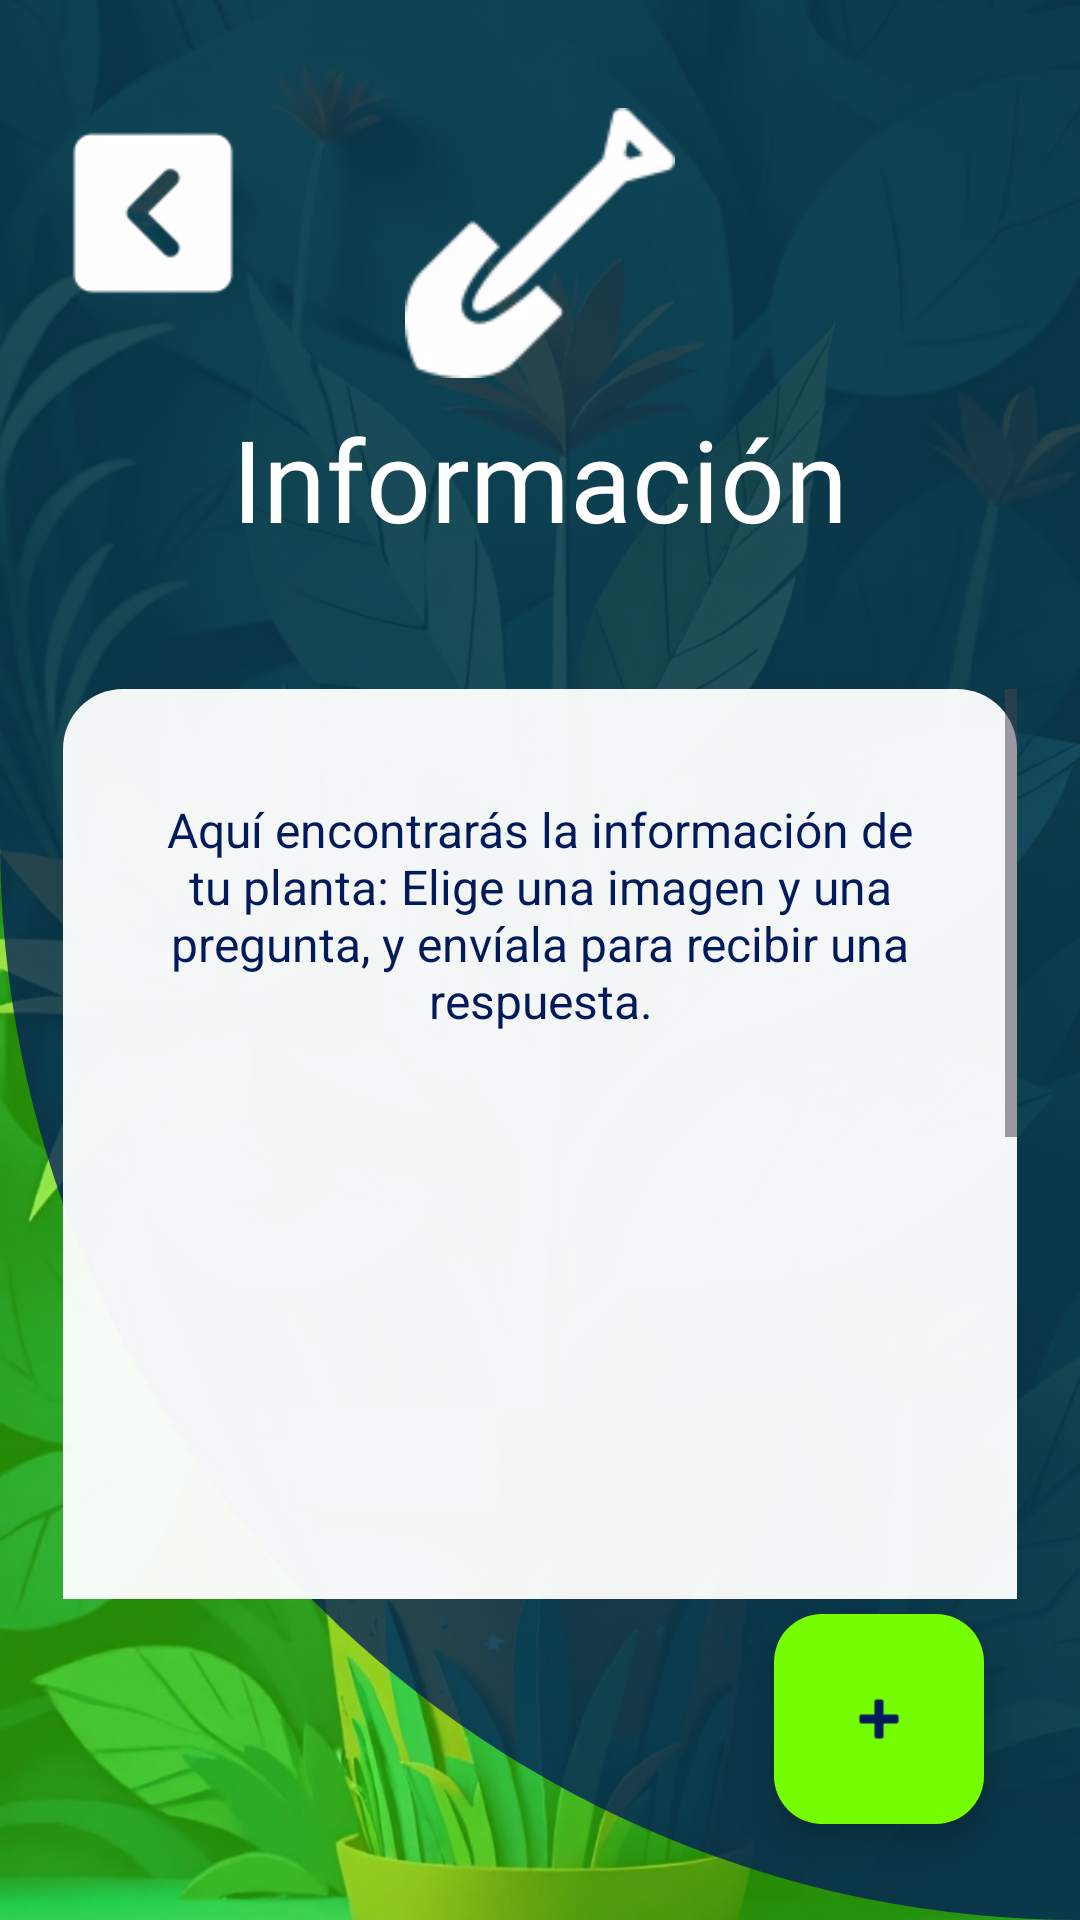

Locate icon controls on the screen. Image size 1080*1920, boxes as box(x1, y1, x2, y2).
agregar: box(774, 1614, 984, 1824)
pala: box(405, 108, 675, 378)
